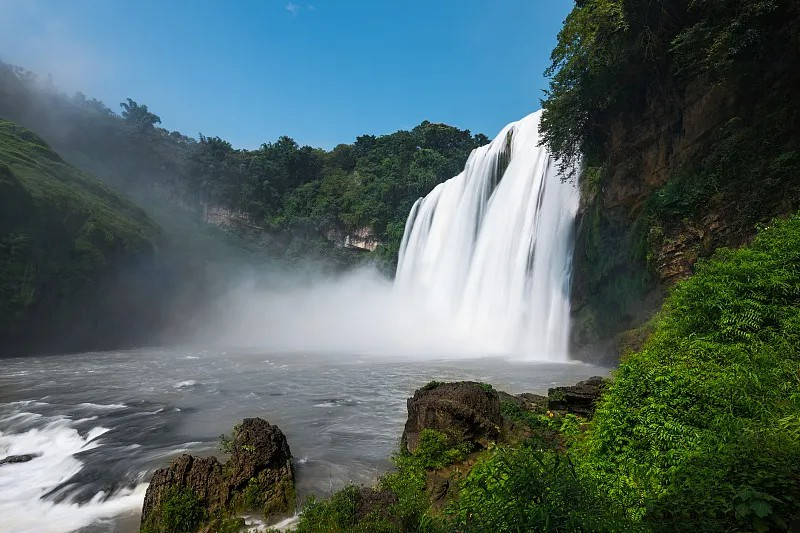Huangguoshu: (390, 110, 582, 362)
